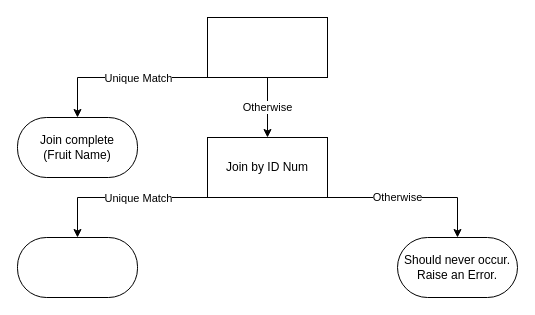
Some shapes in this 535 by 315 pixel diagram are drawn without their labels. Each missing label, with the box of its shape:
Join by Fruit: (206, 16, 328, 78)
Join complete (ID Num): (16, 236, 138, 298)
